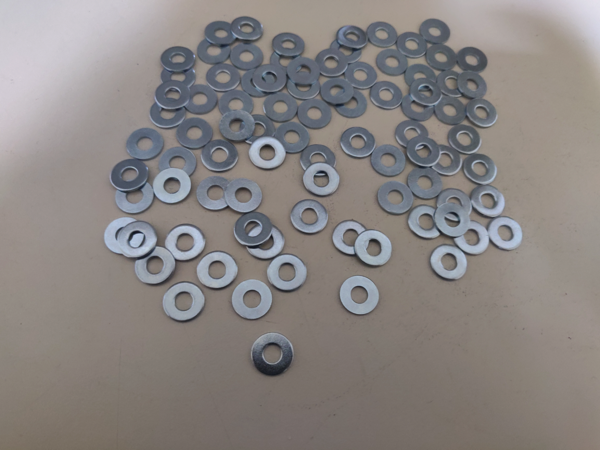circle: (252, 333, 294, 376), (339, 275, 381, 317), (232, 280, 273, 322), (135, 246, 177, 286), (164, 283, 205, 322), (197, 251, 239, 289), (245, 223, 286, 261), (105, 217, 145, 255), (166, 224, 205, 262), (196, 176, 234, 213), (268, 255, 307, 291), (116, 179, 155, 215), (290, 200, 330, 235), (356, 230, 393, 267), (333, 220, 370, 257), (430, 245, 468, 281), (153, 168, 191, 204), (303, 162, 340, 198), (121, 222, 158, 258), (225, 178, 262, 214), (249, 136, 287, 171), (235, 212, 273, 246), (111, 158, 149, 192), (159, 147, 197, 181), (202, 139, 240, 173), (126, 128, 164, 162), (435, 203, 470, 238), (488, 217, 524, 251), (436, 188, 472, 222), (408, 205, 445, 238), (150, 98, 187, 131), (301, 144, 336, 178), (378, 182, 414, 215), (241, 115, 277, 148), (471, 185, 505, 219), (274, 122, 310, 154), (297, 99, 333, 131), (159, 62, 197, 92), (456, 221, 489, 255), (177, 118, 213, 149), (155, 81, 192, 111), (241, 69, 278, 99), (372, 145, 406, 177), (409, 168, 443, 200), (396, 120, 430, 152), (462, 154, 497, 185), (340, 128, 376, 158), (447, 125, 482, 155), (264, 92, 299, 122), (219, 90, 255, 119), (429, 146, 462, 177), (466, 98, 499, 129), (221, 111, 255, 141), (335, 89, 369, 119), (286, 71, 321, 100), (253, 64, 288, 93), (183, 85, 218, 114), (320, 78, 356, 106), (410, 77, 443, 107), (345, 60, 378, 90), (407, 137, 441, 166), (316, 50, 350, 79), (328, 37, 363, 65), (206, 64, 241, 92), (435, 96, 467, 126), (287, 58, 322, 85), (456, 71, 488, 100), (437, 69, 470, 97), (376, 49, 409, 77), (231, 43, 264, 71), (270, 48, 303, 76), (370, 81, 403, 109), (402, 93, 433, 122), (456, 47, 489, 74), (419, 18, 452, 45), (198, 38, 231, 65), (405, 64, 437, 91), (231, 16, 264, 42), (162, 47, 196, 72), (204, 21, 237, 46), (272, 32, 305, 57), (427, 45, 458, 71), (397, 32, 428, 58), (368, 22, 399, 48), (336, 26, 368, 50)
